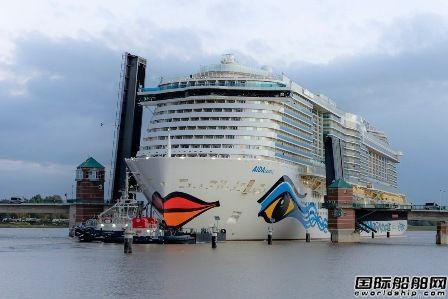Ship: (138, 59, 415, 242)
